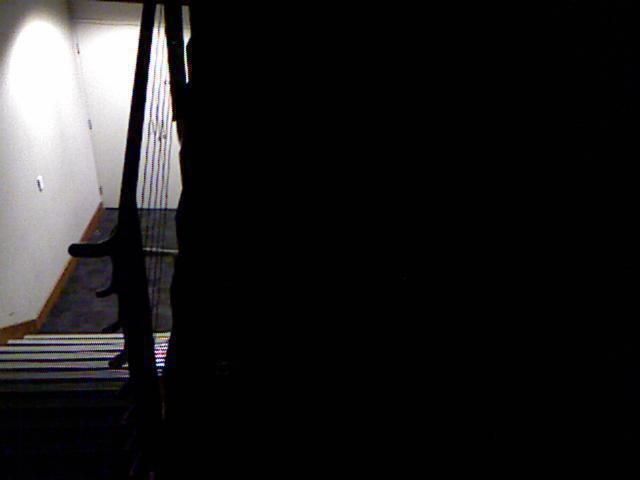Escaleras: (0, 321, 178, 438)
